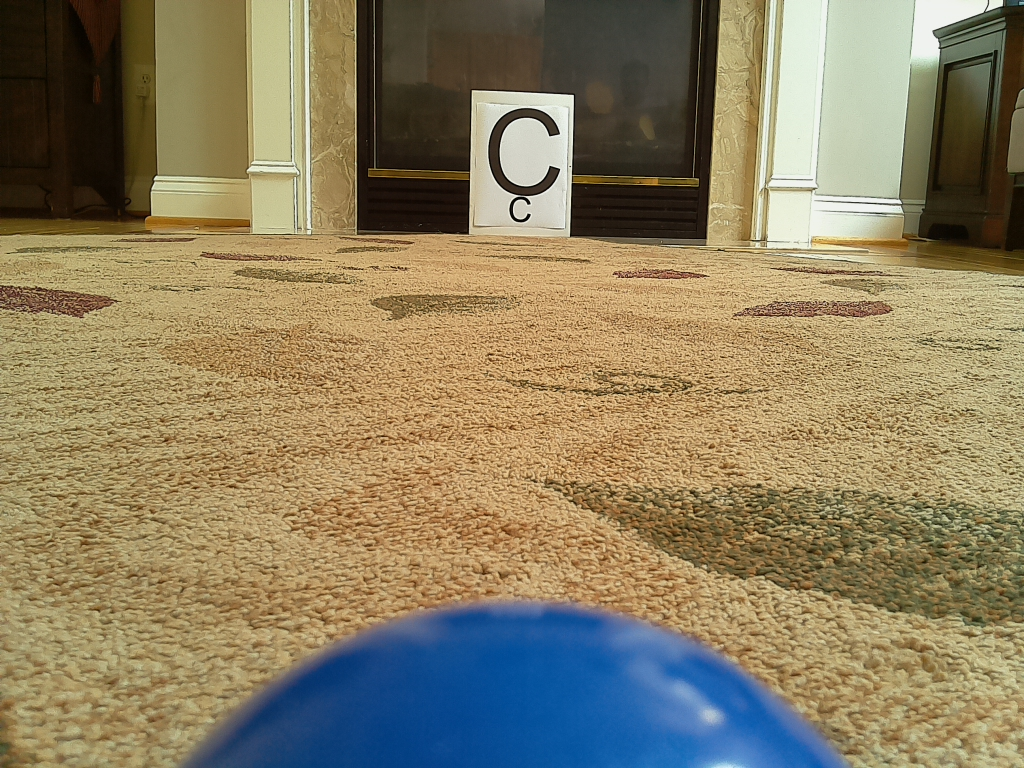letter: (489, 109, 562, 198)
